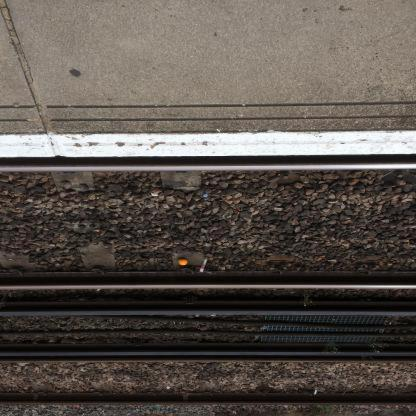Bottle: (203, 194, 208, 198)
Other litter: (178, 258, 188, 265)
Paper: (151, 193, 159, 196)
Unlabeled litter: (199, 259, 207, 272)
